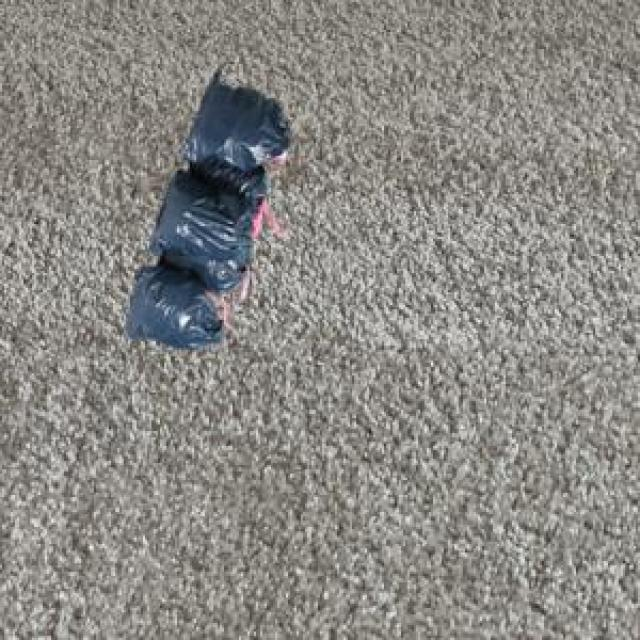waste: (125, 71, 292, 348)
